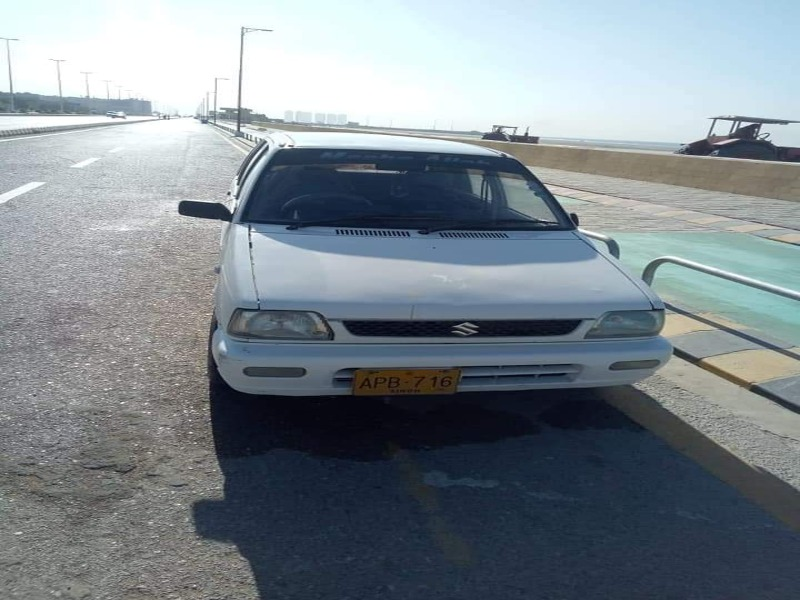License Plate: (349, 362, 466, 401)
